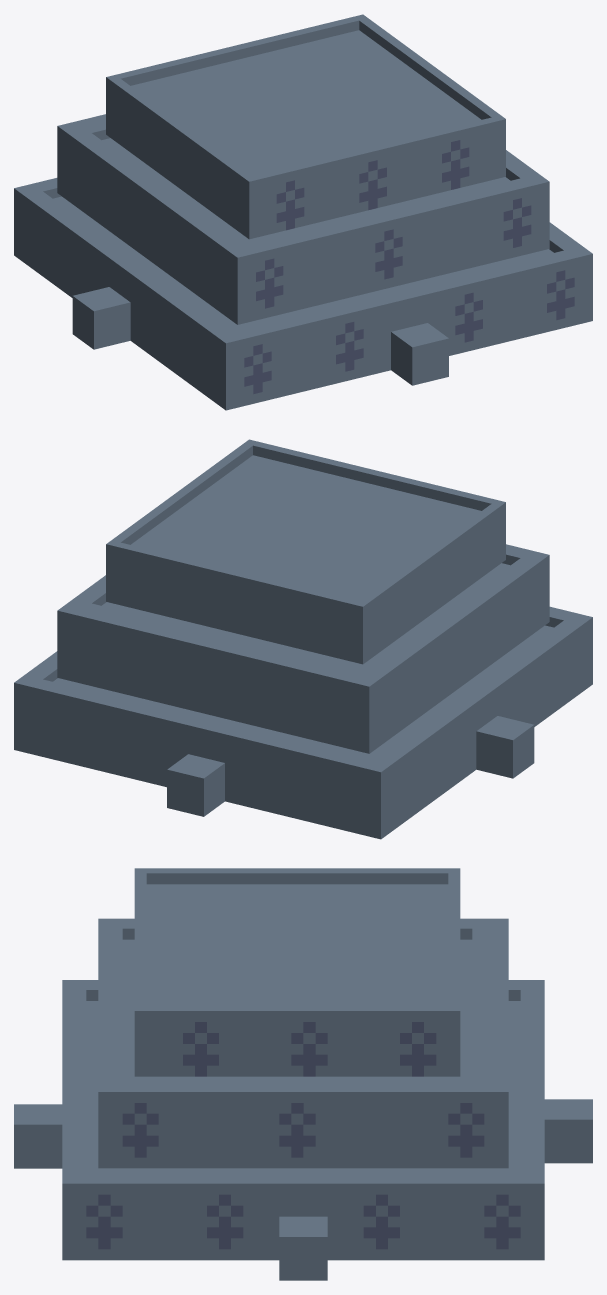
Rendered from Anubis-2.obj.
3 views of the same model, one above another, from view 1: azimuth 30°, elevation 25°; view 2: azimuth 150°, elevation 25°; view 3: azimuth 270°, elevation 25° (orthographic). The views are drawn at different scales.
Bounding box in the file's own units: 4.8 × 2 × 4.8.
1 material, 1 textured.
